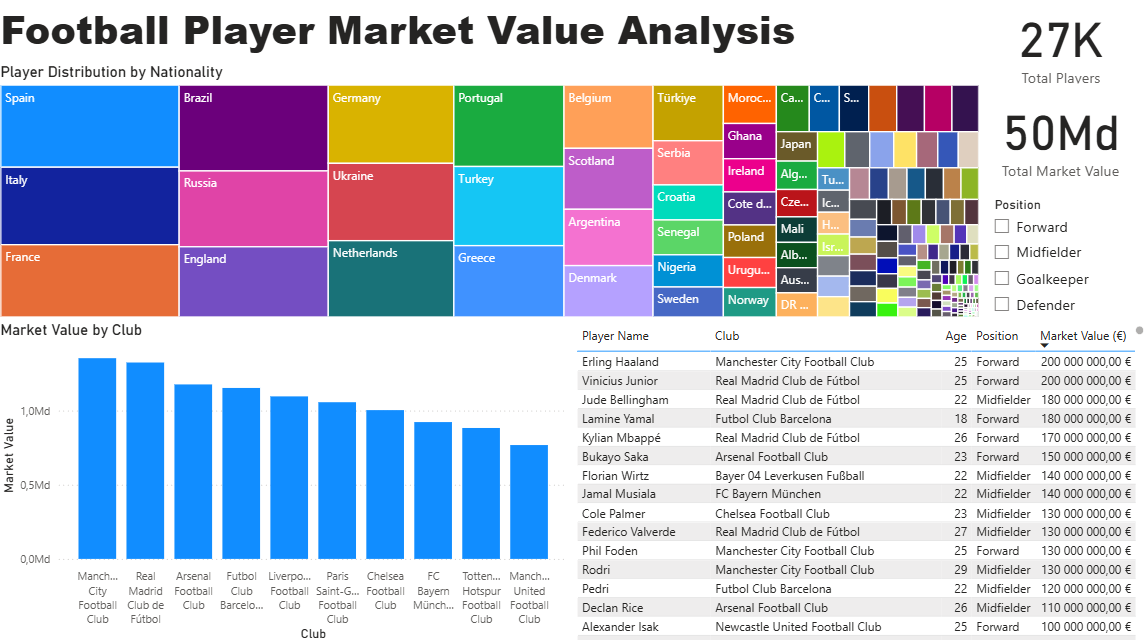

The page's visual inventory and layout, read from the dashboard file:
{"tool":"powerbi","page":{"name":"Page 1","canvas":[1280,720],"ordinal":0},"visuals":[{"type":"textbox","box":[0,0,917.5,72.5],"z":0},{"type":"card","fields":{"Values":["players.Valeur Marchande Totale"]},"box":[1085,101.2,195,105],"z":1000},{"type":"card","title":"Total Players","fields":{"Values":["players.Nombre de Joueurs"]},"box":[1091.2,0,182.5,101.2],"z":2000},{"type":"columnChart","title":"Market Value by Club","fields":{"Y":["players.Valeur Marchande Totale"],"Category":["players.current_club_name"]},"box":[0,360,640,360],"z":3000},{"type":"treemap","title":"Player Distribution by Nationality","fields":{"Group":["players.country_of_citizenship"],"Values":["players.Nombre de Joueurs"]},"box":[0,72.7,1096.4,286.8],"z":4000},{"type":"tableEx","fields":{"Values":["players.name","players.current_club_name","Sum(players.Âge)","players.Position_English","Sum(players.market_value_in_eur)"]},"box":[640,360,640,360],"z":5000},{"type":"slicer","fields":{"Values":["players.Position_English"]},"box":[1096.2,216.2,183.8,143.8],"z":6000}]}

Visuals, with their boxes in screenshot pixels (x1, y1, x2, y2), scaled from the page's 1280x720 canvas onto the 1144x640 screenshot:
textbox: 0:0:820:64
card - players.Valeur Marchande Totale: 970:90:1143:183
"Total Players" card: 975:0:1138:90
"Market Value by Club" columnChart: 0:320:572:639
"Player Distribution by Nationality" treemap: 0:65:980:320
tableEx - players.name x players.current_club_name: 572:320:1143:639
slicer - players.Position_English: 980:192:1143:320
